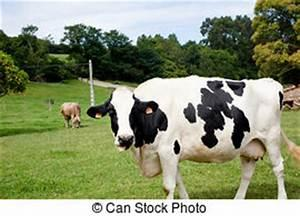cow: (86, 74, 299, 199), (59, 101, 81, 128)
